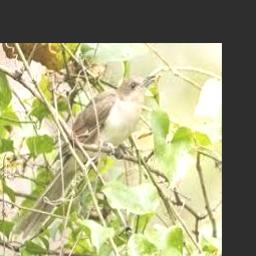Cuckoo: (12, 74, 155, 240)
